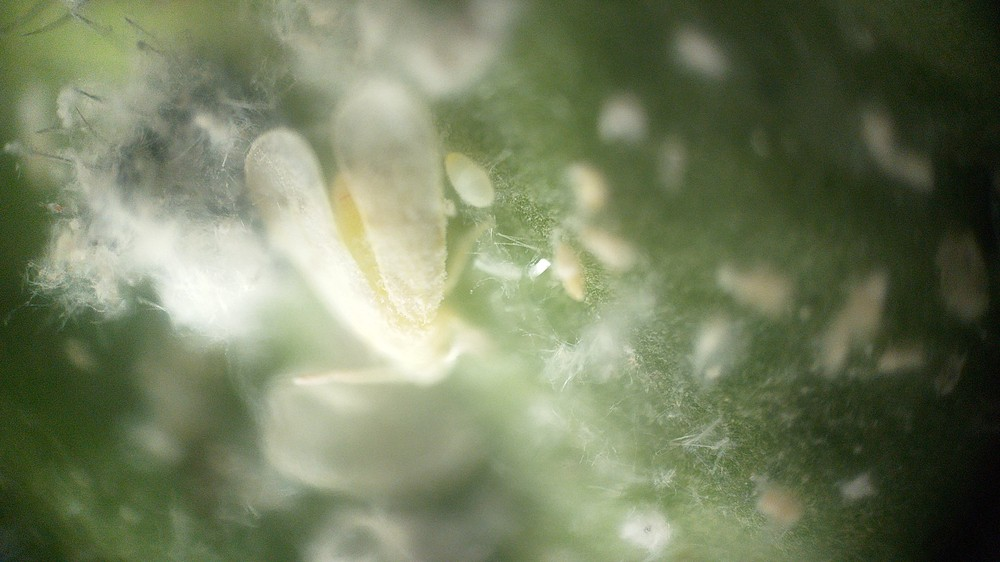Mosca Blanca: (213, 82, 572, 424)
